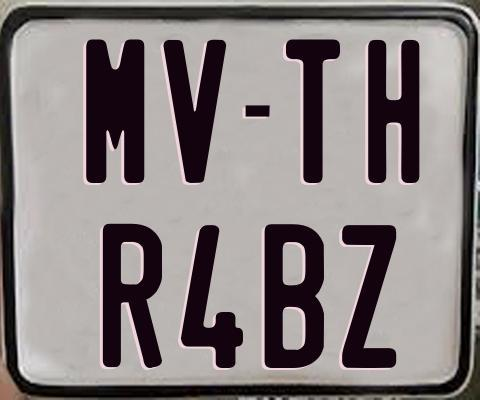4: (181, 224, 244, 372)
B: (262, 222, 322, 367)
H: (368, 39, 425, 187)
M: (84, 39, 148, 188)
R: (102, 222, 164, 367)
T: (285, 37, 339, 185)
V: (161, 40, 229, 186)
Z: (341, 222, 396, 367)
